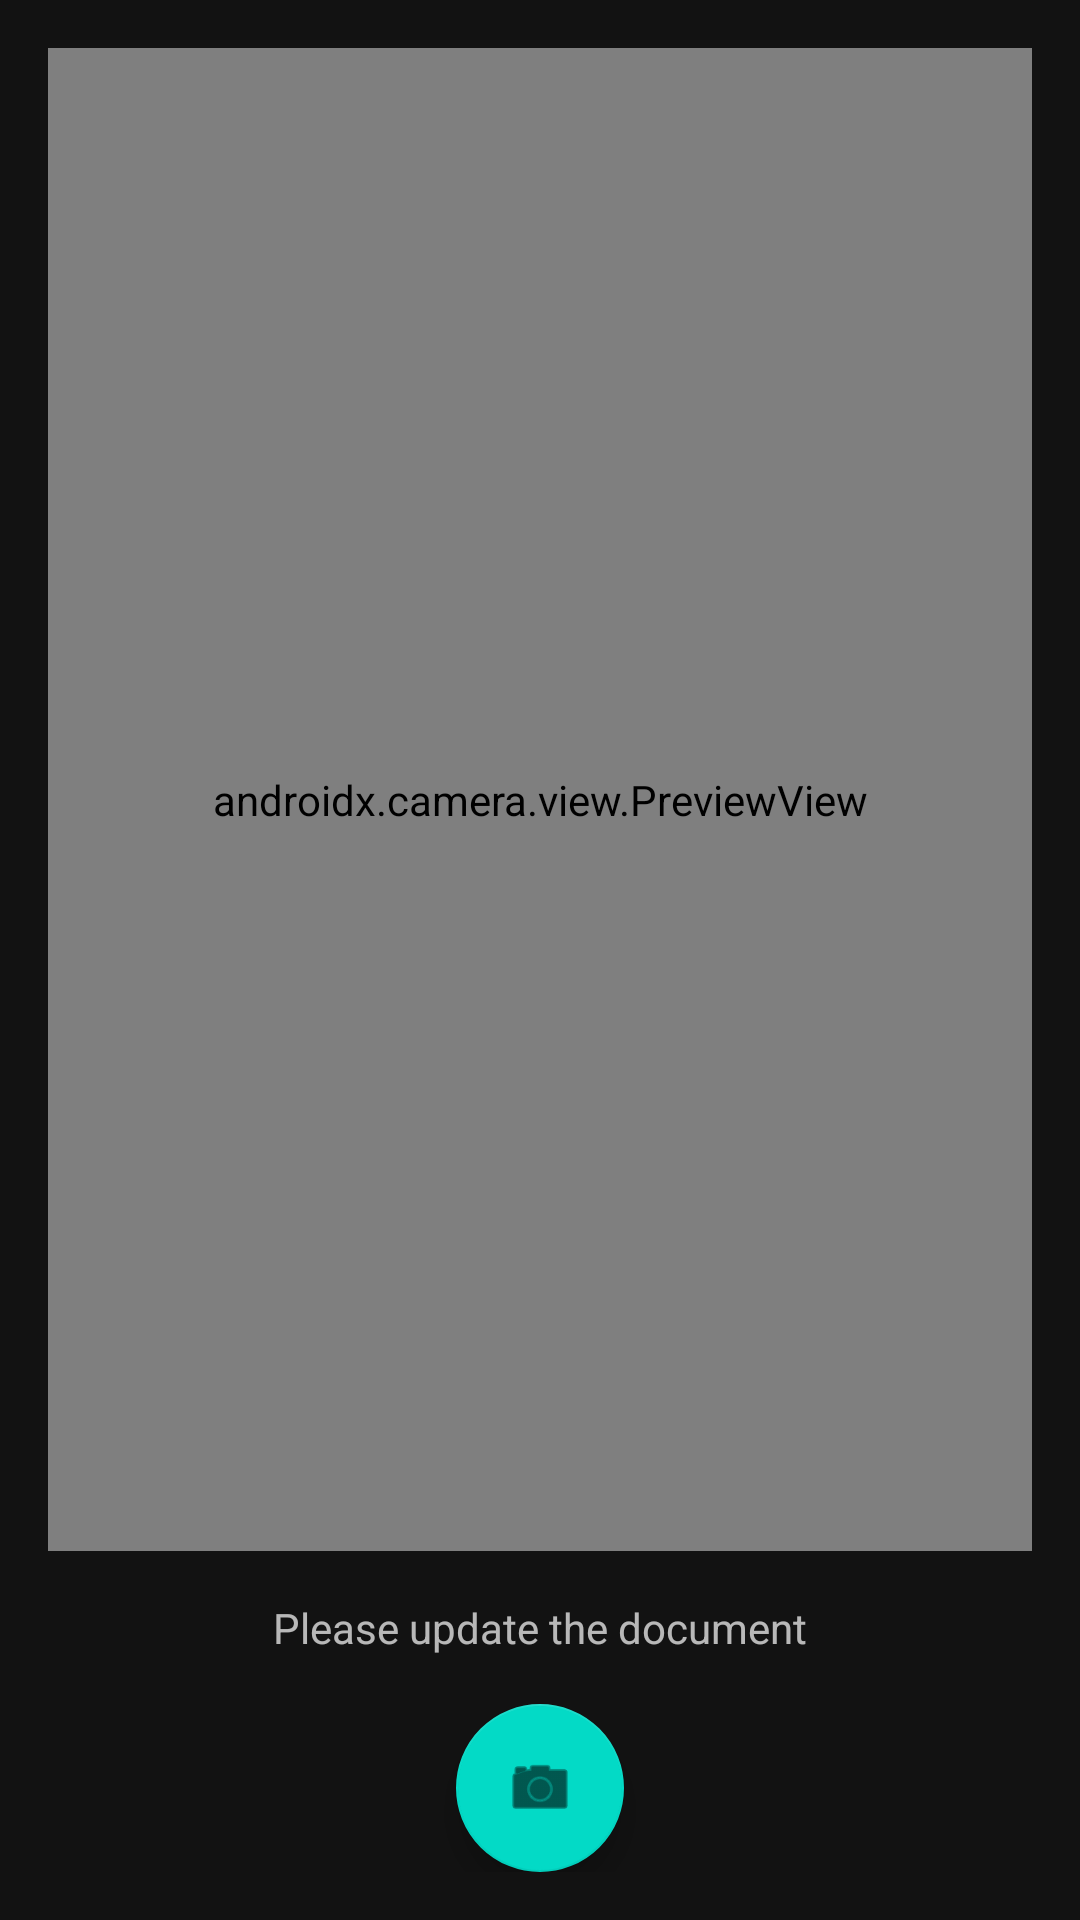

Point at icon controls on the screen. Image size 1080×1920, points as (x=x, y=y).
camera: (x=540, y=1788)
